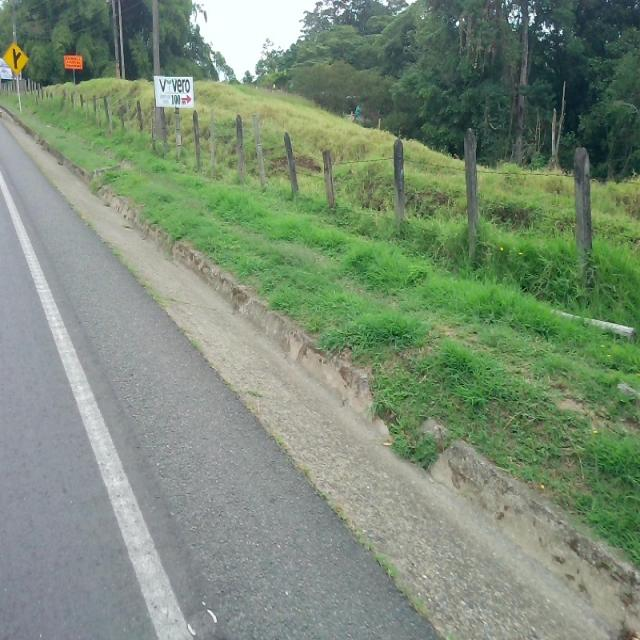DITCH: (11, 94, 638, 639), (2, 102, 638, 638)
